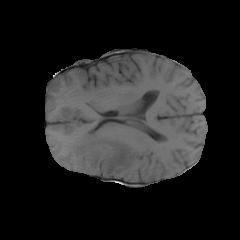glioma: (70, 129, 137, 177)
